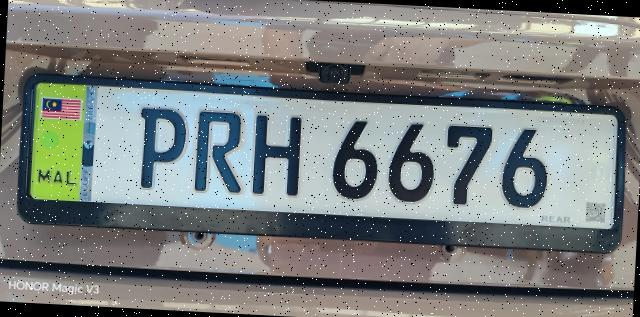License_Plate: (16, 70, 630, 256)
car: (1, 1, 640, 317)
